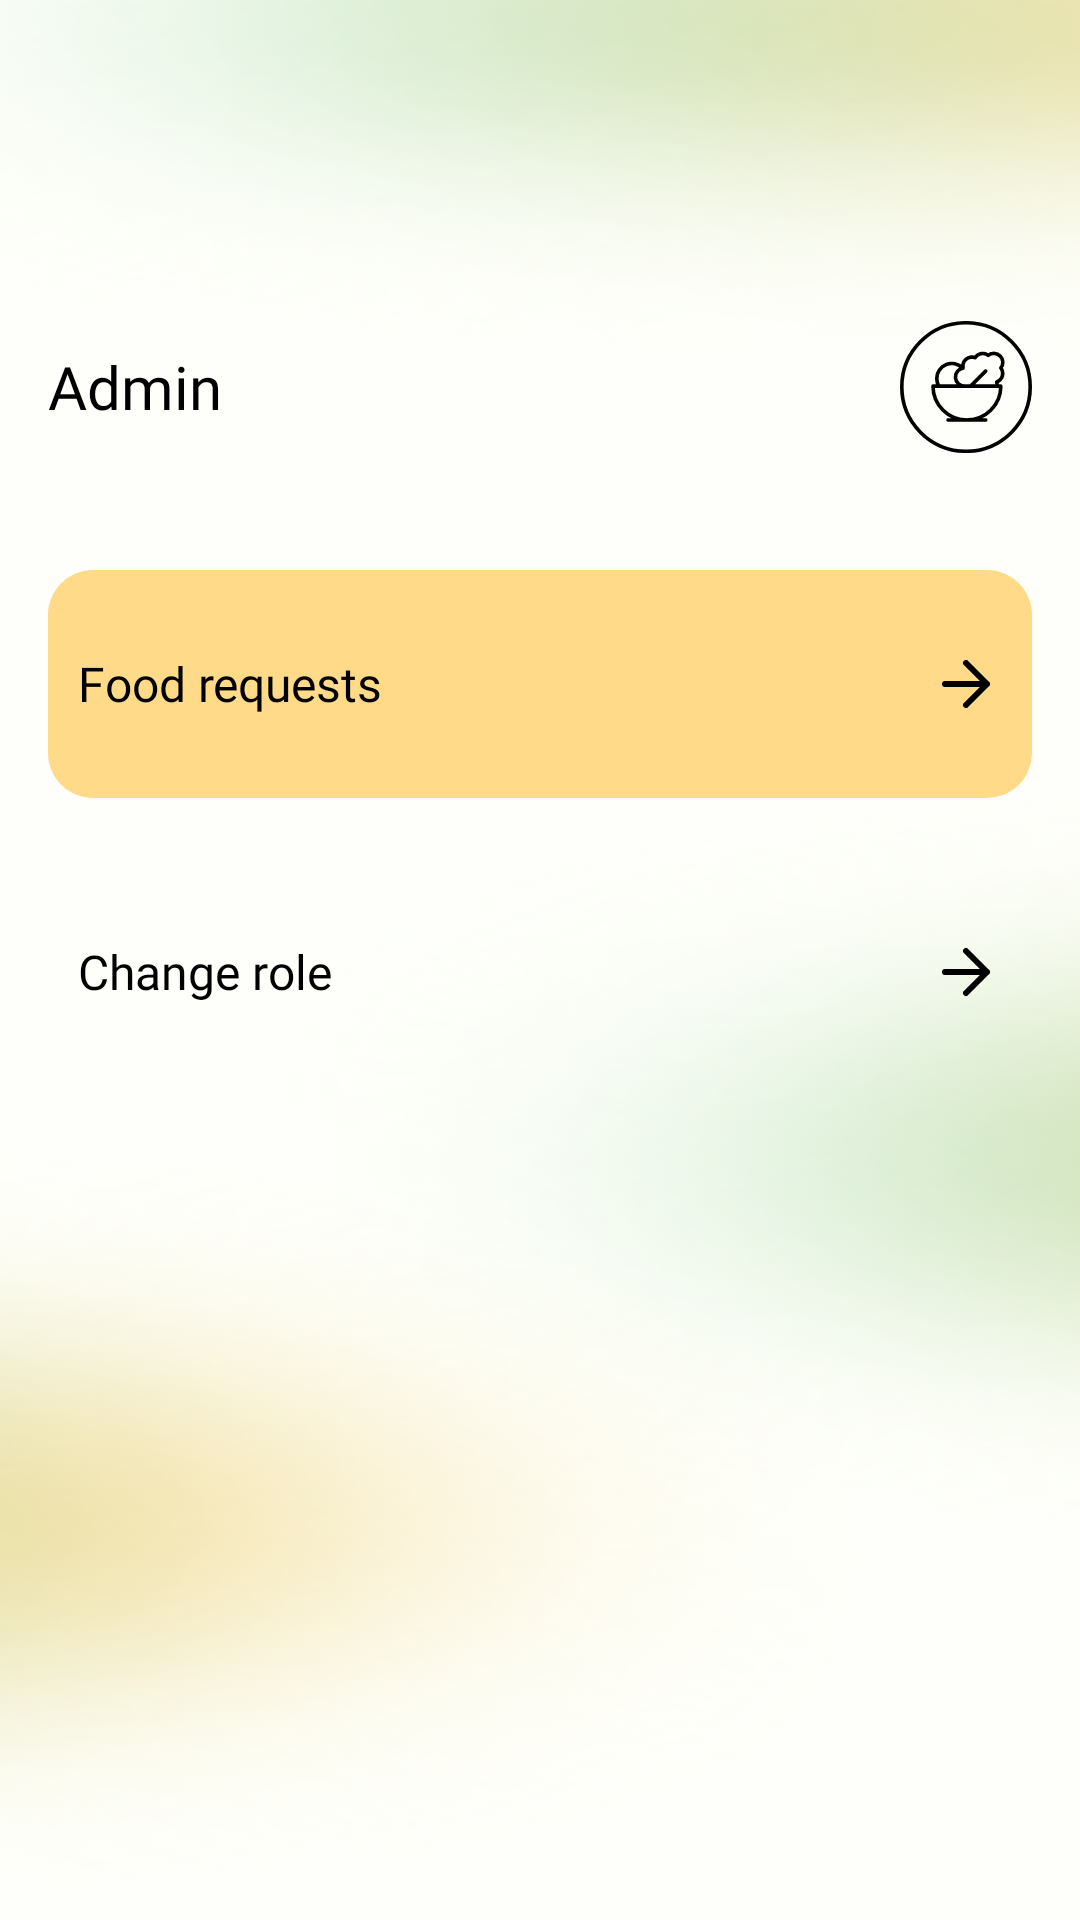

Where icons sit on this 1080w x 1920h app screen, as (x1, y1, x2, y2):
arrow right: (942, 660, 990, 708), (942, 948, 990, 996)
